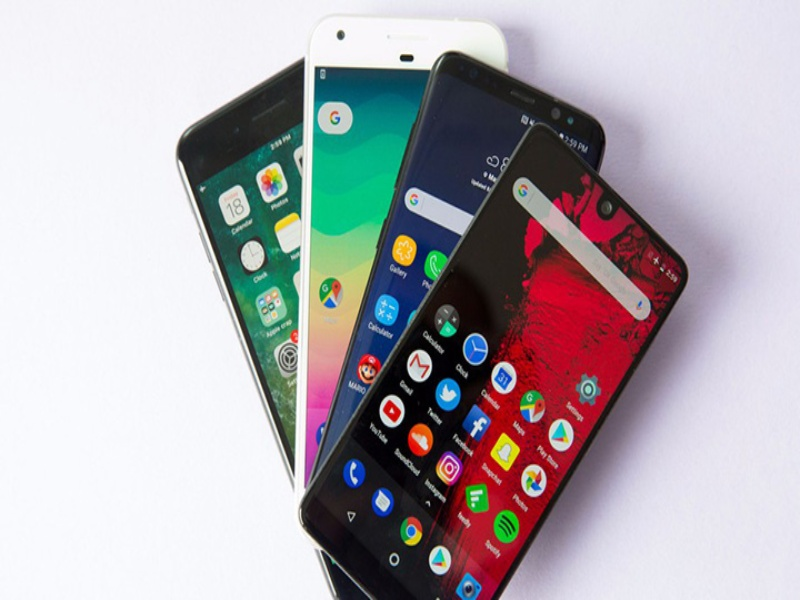cellphone: (173, 14, 676, 600)
